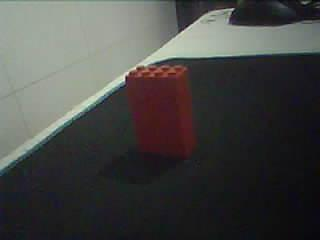lego: (124, 64, 199, 159)
